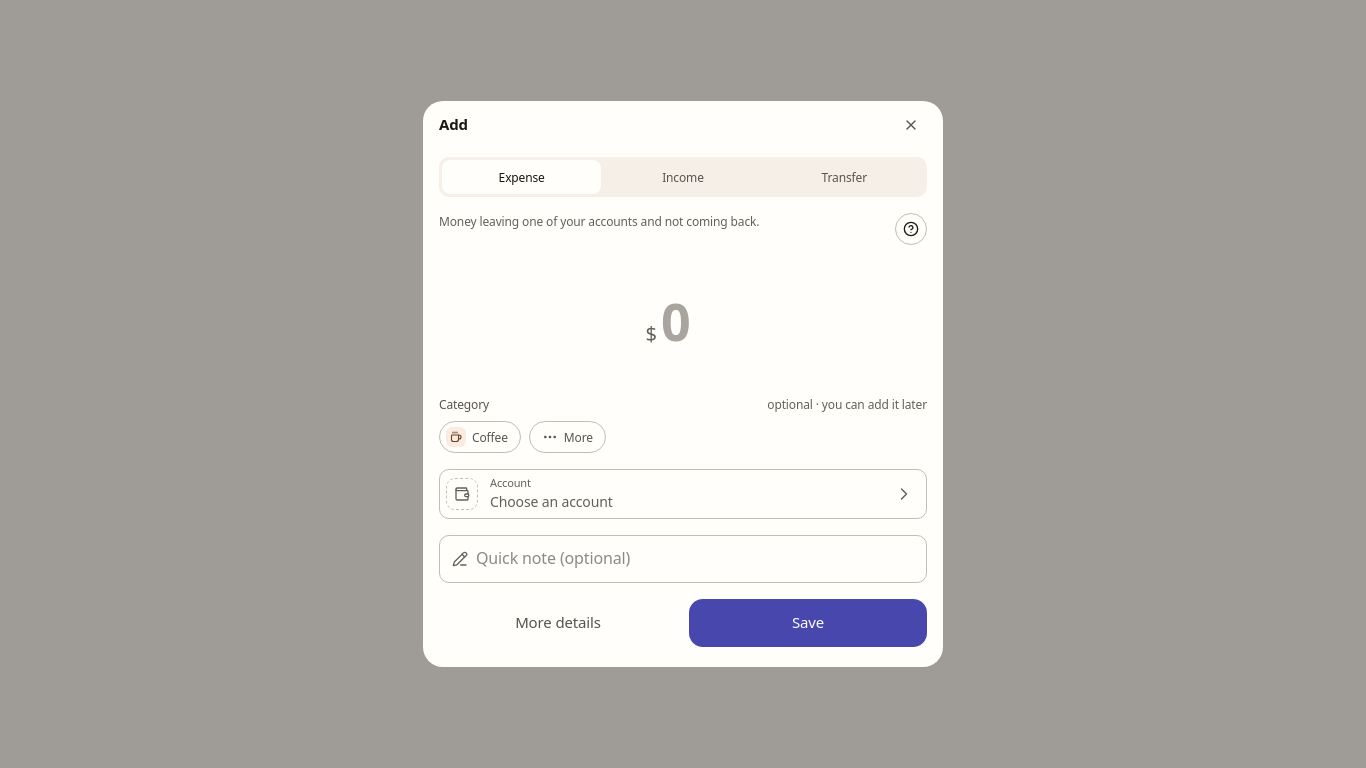
Test: QuickAddSheet › shows the missing main account under the picker when the API says NO_DEFAULT_ACCOUNT
Expected: the button "Account Choose an account" is shown, left=439, top=469, right=927, bottom=519
In the field named "Amount": (691, 321) left=661, top=285, right=720, bottom=356, type "500"
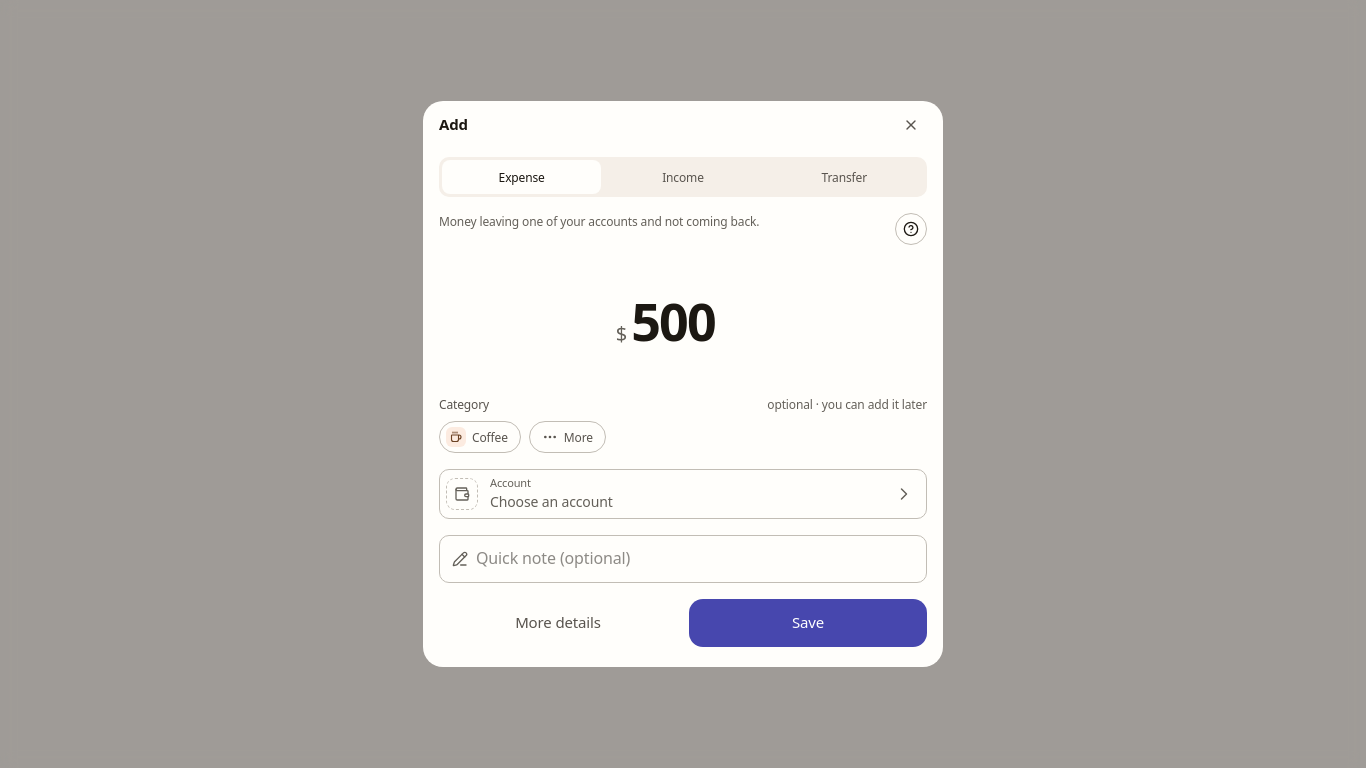
Click the 2nd button named "Save": click(808, 623) left=689, top=599, right=927, bottom=647
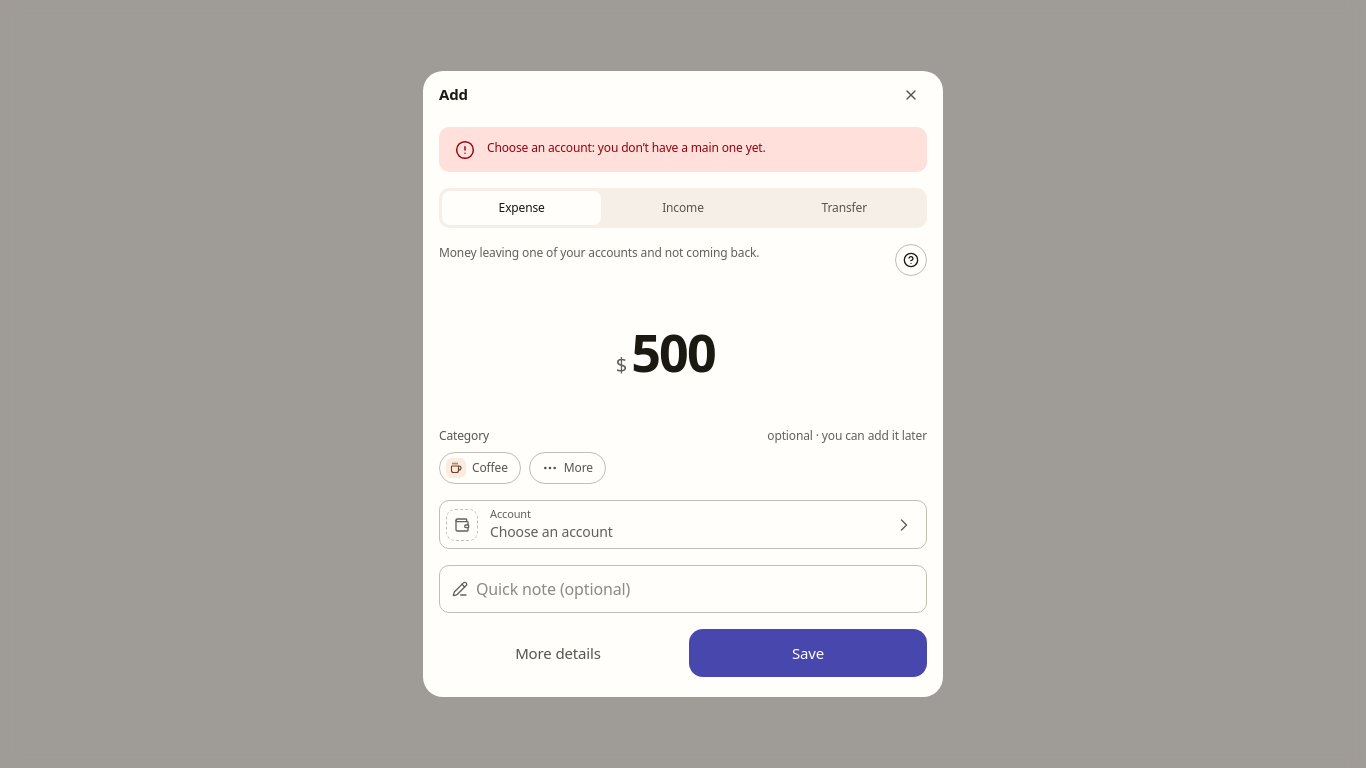
Expected: the message reads "Choose an account: you don’t have a main one yet.", left=487, top=139, right=766, bottom=156
